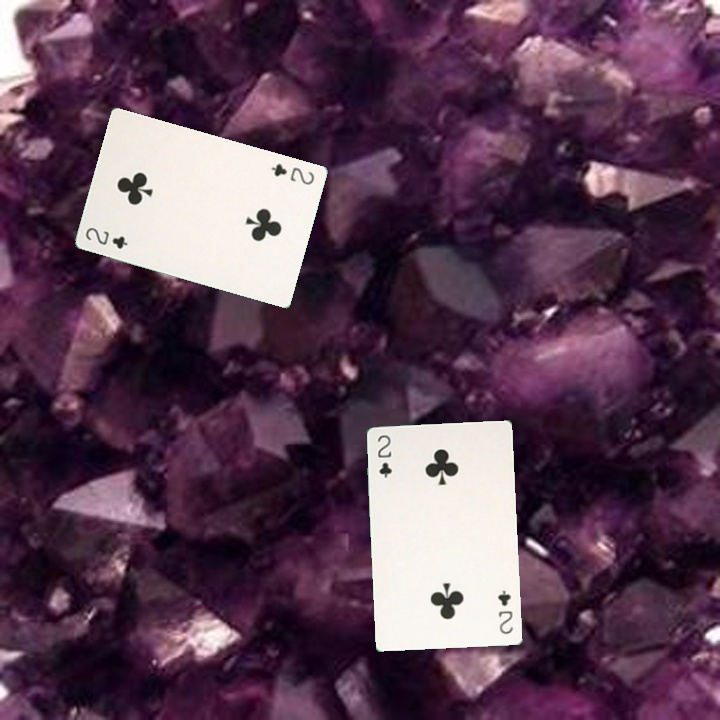2c: (81, 223, 130, 252), (267, 159, 317, 187), (494, 586, 515, 636), (373, 431, 394, 480)
